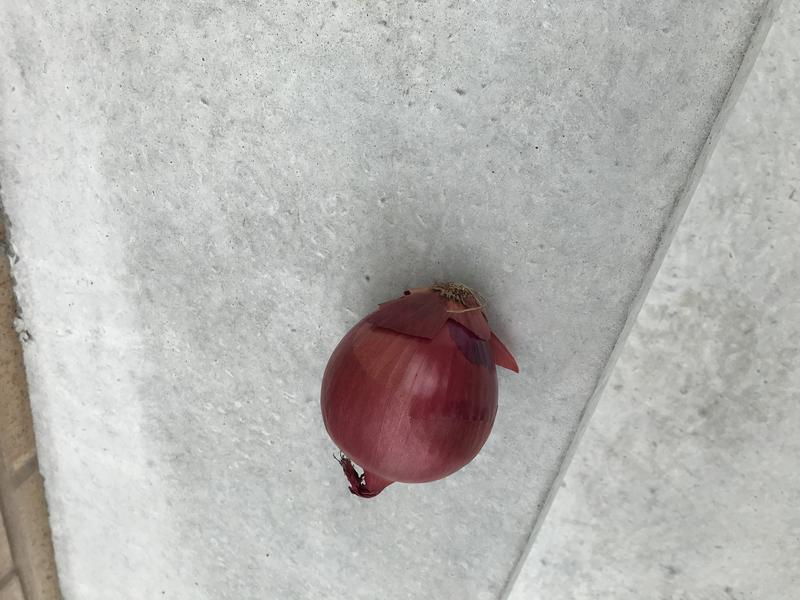purple_onion: (306, 262, 522, 513)
